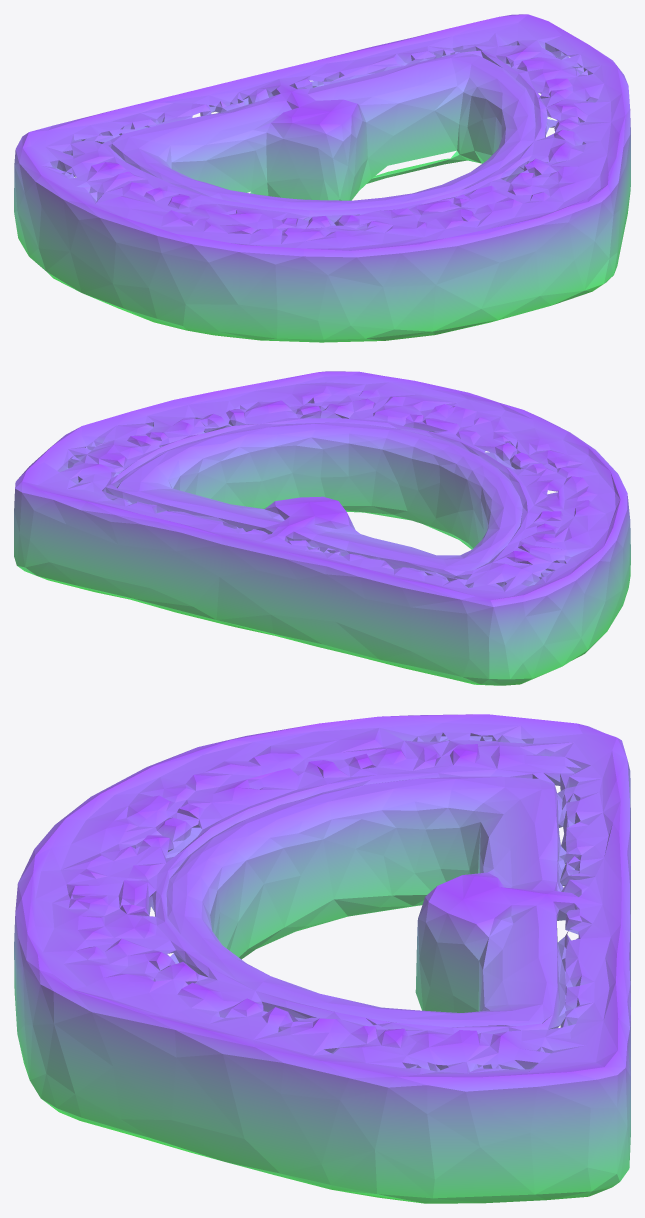
The model's file is 19_cyb_laser_gradient_fish_scales_2959_2026_10_03_01d728.glb.
The picture shows the model from 3 angles, top to bottom: view 1: azimuth 30°, elevation 25°; view 2: azimuth 150°, elevation 25°; view 3: azimuth 270°, elevation 25°; orthographic projection. The views are drawn at different scales.
Parts seen in each view (by area): view 1: geometry_0; view 2: geometry_0; view 3: geometry_0.
Part boxes in pixels (x1,y1,x2,y2): geometry_0: (14,14,630,342); geometry_0: (14,371,630,685); geometry_0: (14,714,630,1203).
Size of the model in its own units: 1 by 0.1625 by 0.6995.
